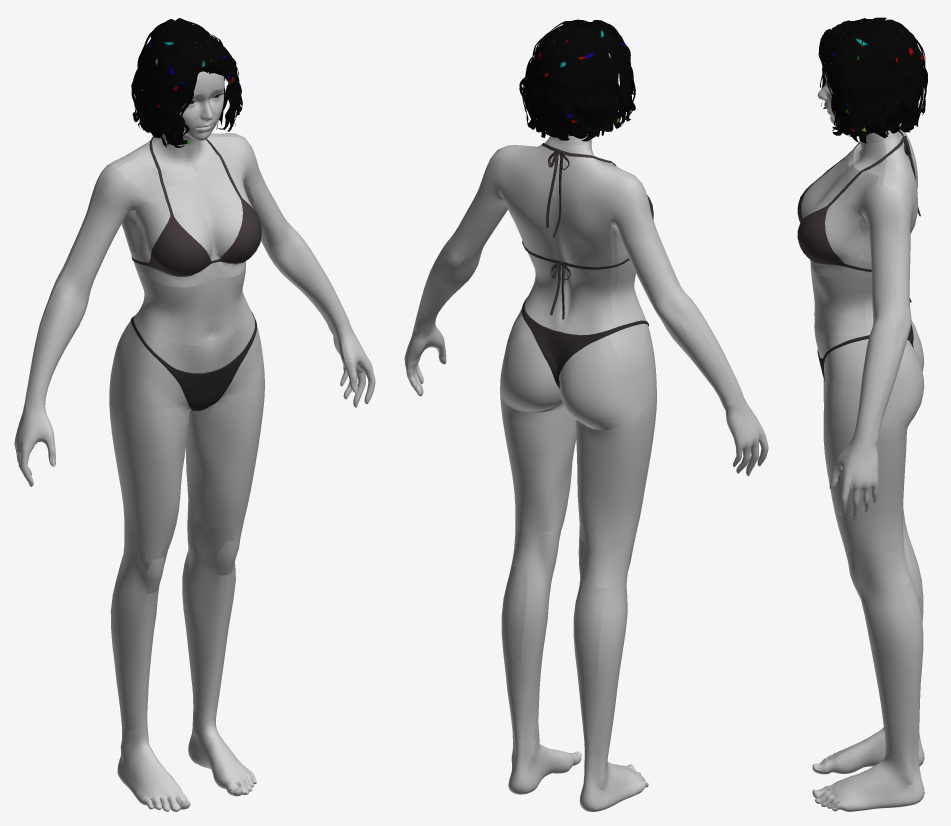
Rendered from woman.gltf.
3 views of the same model, side by side, from view 1: azimuth 30°, elevation 25°; view 2: azimuth 150°, elevation 25°; view 3: azimuth 270°, elevation 25° (orthographic).
Visible parts, largest first — view 1: Thighs, Legs, Arm Front Side, Chest, Hair, Private Area, Abdomen, Feet, Neck, Backhand, Genitals, Decollete (+5 smaller); view 2: Thighs, Back, Legs, Hair, Arm Back Side, Buttocks, Calf, Feet, Private Area, Backhand, Genitals, Chest (+6 smaller); view 3: Hair, Legs, Arm Front Side, Thighs, Chest, Feet, Abdomen, Private Area, Arm Back Side, Backhand, Buttocks, Neck (+7 smaller).
Part boxes in pixels (left/top/right/bottom): Thighs: left=109, top=382, right=264, bottom=545; Legs: left=110, top=514, right=243, bottom=730; Arm Front Side: left=25, top=135, right=353, bottom=413; Chest: left=127, top=136, right=261, bottom=287; Hair: left=131, top=18, right=242, bottom=147; Private Area: left=110, top=312, right=264, bottom=416; Abdomen: left=134, top=267, right=251, bottom=345; Feet: left=119, top=709, right=256, bottom=811; Neck: left=109, top=133, right=242, bottom=178; Backhand: left=14, top=332, right=375, bottom=486; Genitals: left=130, top=311, right=256, bottom=410; Decollete: left=166, top=171, right=237, bottom=221; Thighs: left=500, top=393, right=656, bottom=550; Back: left=496, top=148, right=626, bottom=341; Legs: left=501, top=521, right=635, bottom=758; Hair: left=519, top=19, right=635, bottom=141; Arm Back Side: left=413, top=151, right=744, bottom=412; Buttocks: left=500, top=315, right=633, bottom=430; Calf: left=502, top=563, right=607, bottom=678; Feet: left=511, top=729, right=648, bottom=808; Private Area: left=510, top=308, right=656, bottom=418; Backhand: left=404, top=327, right=768, bottom=475; Genitals: left=521, top=297, right=648, bottom=388; Chest: left=522, top=143, right=653, bottom=319; Hair: left=818, top=17, right=927, bottom=143; Legs: left=844, top=512, right=921, bottom=753; Arm Front Side: left=850, top=185, right=899, bottom=446; Thighs: left=823, top=378, right=907, bottom=552; Chest: left=797, top=130, right=920, bottom=302; Feet: left=812, top=727, right=922, bottom=811; Abdomen: left=810, top=261, right=873, bottom=336; Private Area: left=814, top=313, right=892, bottom=426; Arm Back Side: left=869, top=186, right=912, bottom=447; Backhand: left=830, top=443, right=878, bottom=519; Buttocks: left=889, top=320, right=924, bottom=428; Neck: left=853, top=130, right=904, bottom=186.
Size of the model in its own units: 0.8329 by 1.71 by 0.2809.
